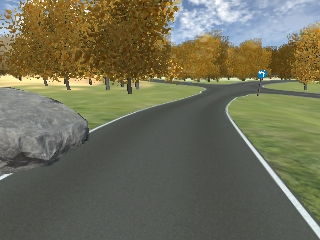left: (257, 70, 265, 80)
